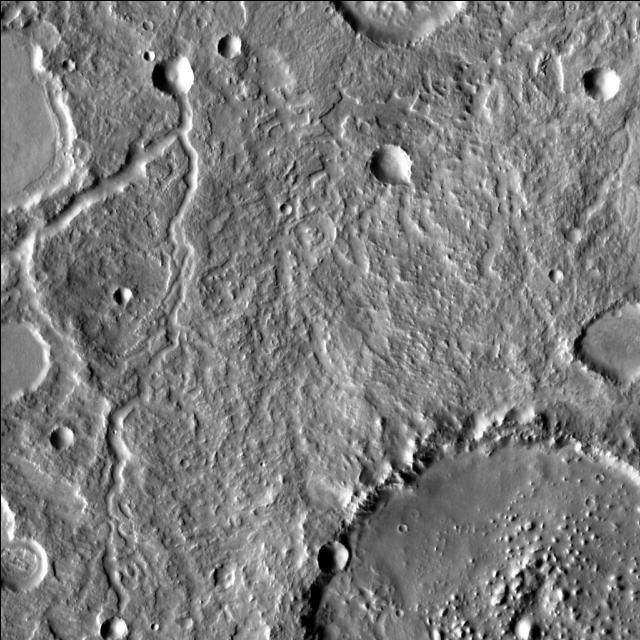crater: (579, 300, 640, 382), (0, 316, 49, 402), (0, 26, 44, 100), (0, 534, 49, 592), (302, 462, 353, 512), (154, 54, 196, 96), (371, 143, 413, 184), (20, 18, 61, 58), (583, 64, 621, 100), (317, 540, 349, 572), (101, 616, 128, 640), (49, 424, 74, 448), (218, 34, 242, 59), (213, 568, 236, 590), (114, 287, 132, 305), (566, 228, 582, 244), (550, 267, 565, 282), (281, 202, 293, 215), (61, 59, 74, 70), (144, 49, 155, 60), (39, 272, 50, 282), (146, 21, 156, 31), (460, 14, 470, 24), (612, 307, 622, 317), (586, 496, 596, 506), (327, 5, 335, 13), (152, 622, 160, 630), (182, 460, 190, 468), (397, 608, 405, 616), (402, 524, 409, 532)
